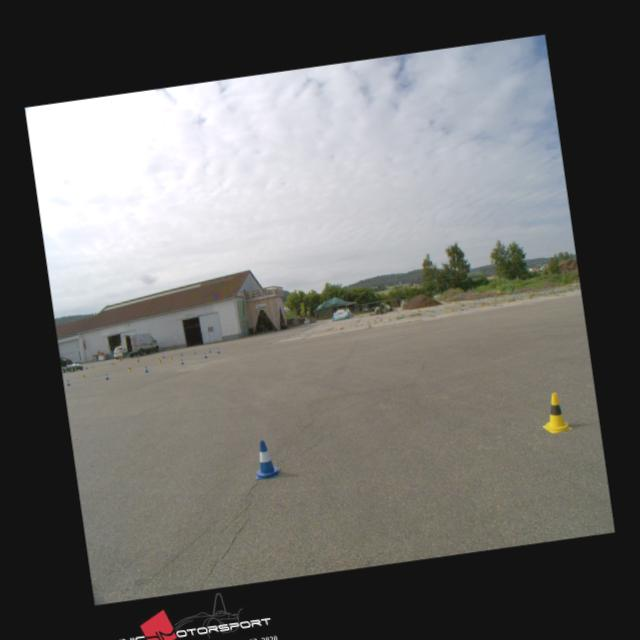blue_cone: (250, 438, 280, 481), (105, 373, 110, 380), (144, 366, 149, 373), (66, 380, 70, 386), (180, 358, 184, 364), (204, 352, 208, 358), (217, 348, 221, 354), (208, 347, 212, 353), (193, 349, 197, 354), (180, 351, 184, 356), (162, 354, 166, 358)
yellow_cone: (538, 391, 572, 434), (128, 365, 132, 372), (158, 358, 162, 364), (82, 374, 86, 379), (112, 362, 116, 367), (74, 368, 78, 373), (136, 360, 140, 364), (91, 365, 94, 370), (170, 356, 173, 360)
